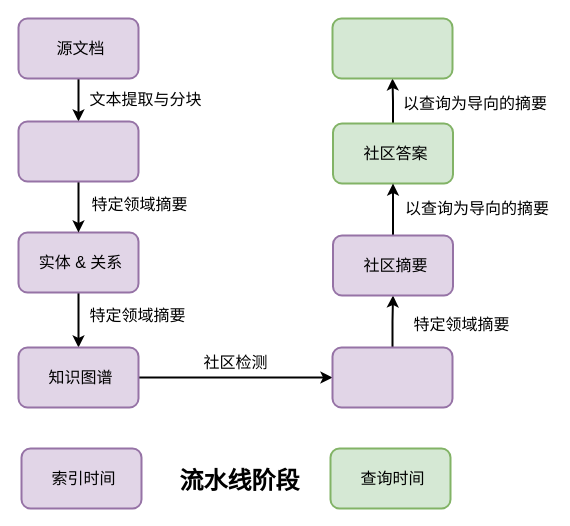
The diagram is 570 pixels wide and 526 high, and some of its shapes have lost their labels. The centre of each missing label's shape, as x and y in pixels:
全局答案: point (392, 48)
图社区: point (392, 377)
文本块: point (78, 151)
